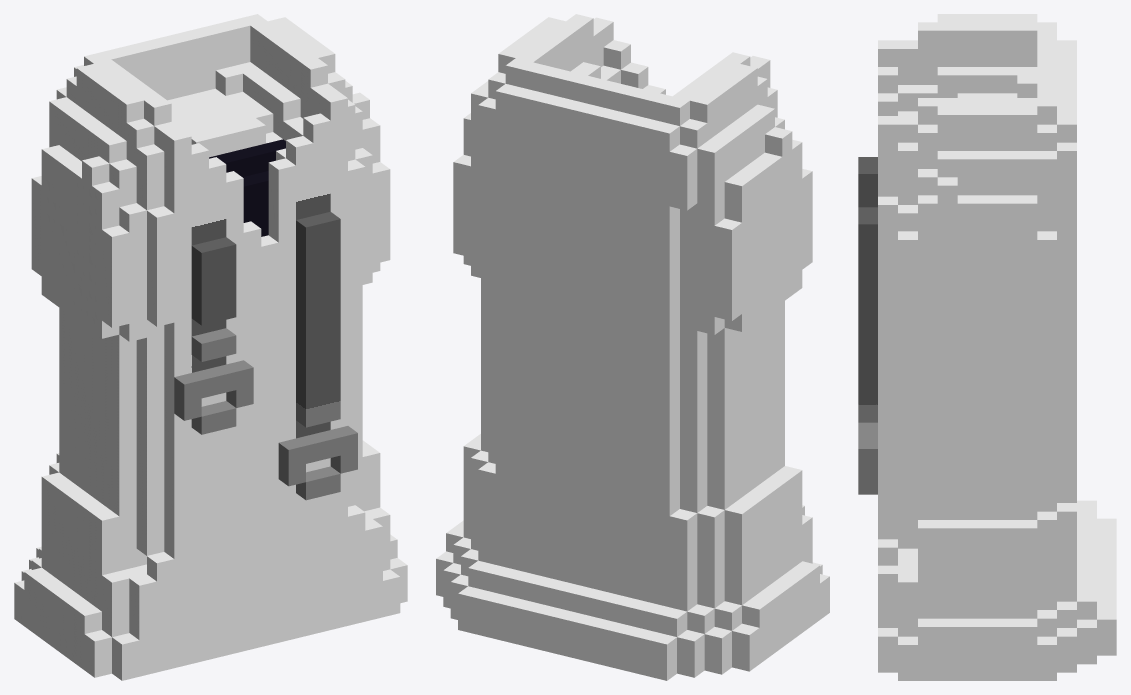
The model's file is tors.dae.
The picture shows the model from 3 angles, left to right: view 1: azimuth 30°, elevation 25°; view 2: azimuth 150°, elevation 25°; view 3: azimuth 270°, elevation 25°; orthographic projection.
Visible parts, largest first — view 1: Content; view 2: Content; view 3: Content.
Boxes of the visible parts, x1,y1,x2,y2 form: Content: (14, 14, 407, 680); Content: (436, 14, 829, 680); Content: (858, 14, 1116, 680).
Size of the model in its own units: 18 by 30 by 13.
Materials: 1 (1 with a texture image).
